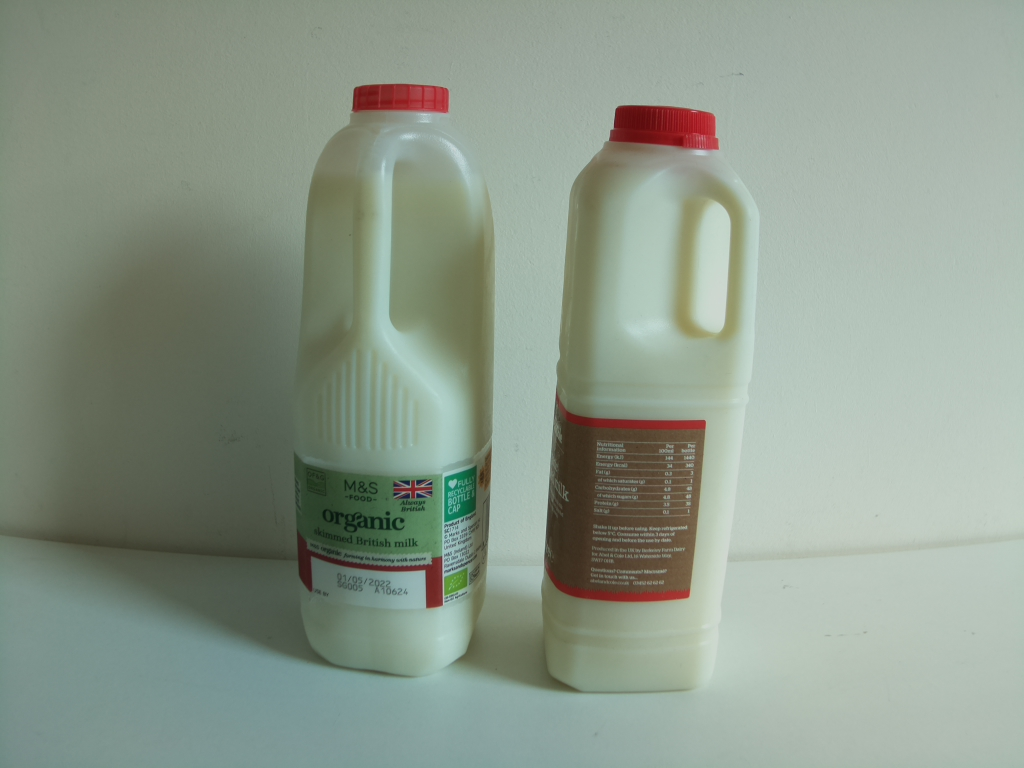milk: (536, 101, 766, 701), (289, 75, 496, 684)
